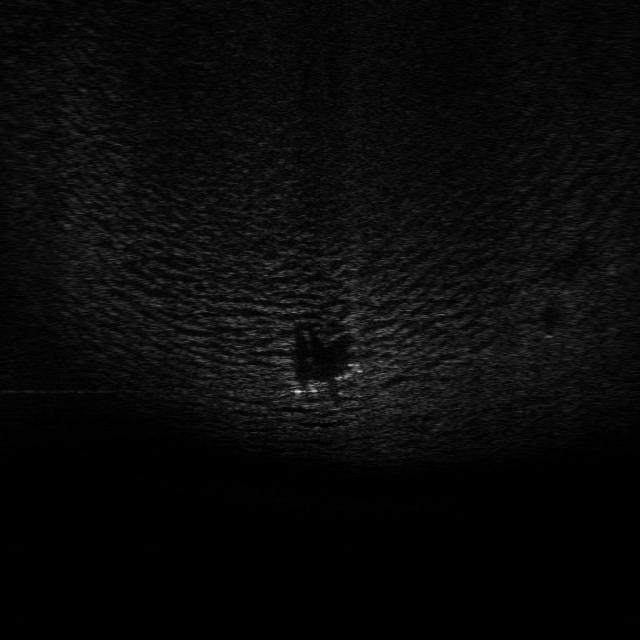plane: (283, 367, 357, 403)
